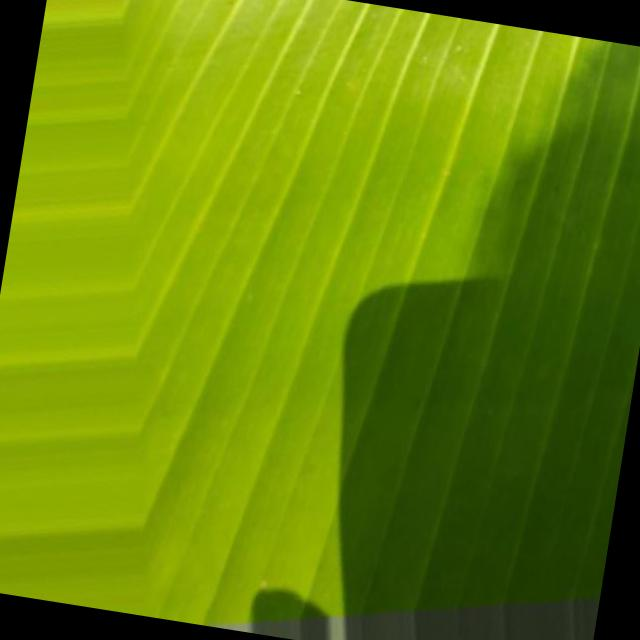Banana_Healthy: (157, 50, 640, 465)
